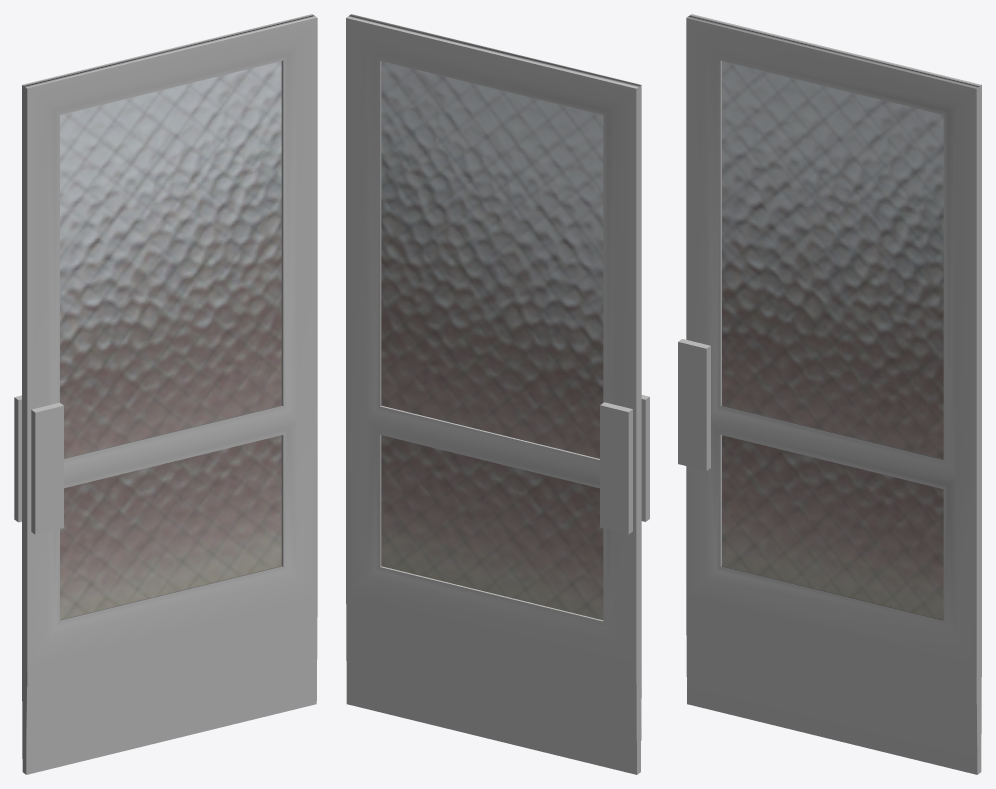
The model's file is Shop_Enter31_door_a.fbx.
3 renders of one model, left to right at view 1: azimuth 30°, elevation 25°; view 2: azimuth 150°, elevation 25°; view 3: azimuth 330°, elevation 25°, orthographic.
Parts seen in each view (by area): view 1: Shop_Enter31_door_a; view 2: Shop_Enter31_door_a; view 3: Shop_Enter31_door_a.
Part boxes in pixels (box(x1,y1,x2,y2)): Shop_Enter31_door_a: box(14, 14, 317, 774); Shop_Enter31_door_a: box(346, 14, 649, 774); Shop_Enter31_door_a: box(678, 14, 981, 774).
Bounding box in the file's own units: 0.8668 × 1.96 × 0.1092.
